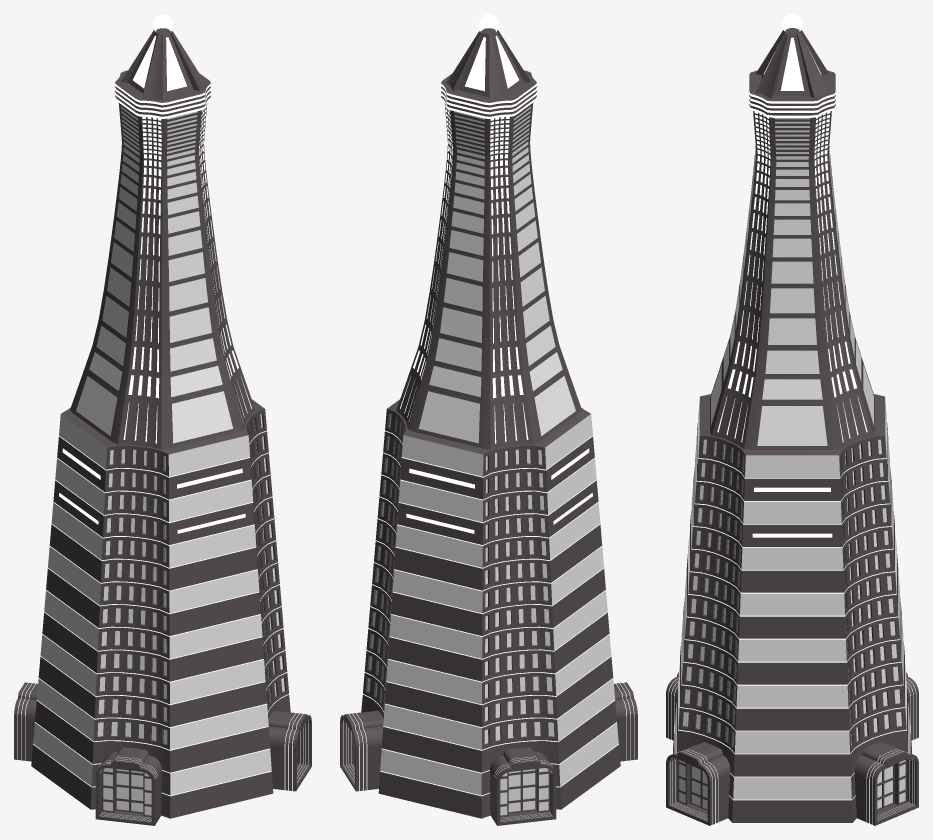
3 views of the same model, side by side, from view 1: azimuth 30°, elevation 25°; view 2: azimuth 150°, elevation 25°; view 3: azimuth 270°, elevation 25° (orthographic).
Parts seen in each view (by area): view 1: S1 WALLS MAT, S1 windows mat, S1 NEON MAT; view 2: S1 WALLS MAT, S1 windows mat, S1 NEON MAT; view 3: S1 WALLS MAT, S1 windows mat, S1 NEON MAT.
Boxes of the visible parts, x1,y1,x2,y2 form: S1 WALLS MAT: (14,28,311,825); S1 windows mat: (33,106,284,795); S1 NEON MAT: (17,14,308,821); S1 WALLS MAT: (340,28,637,825); S1 windows mat: (367,106,618,795); S1 NEON MAT: (343,14,634,821); S1 WALLS MAT: (666,28,918,825); S1 windows mat: (675,118,909,799); S1 NEON MAT: (668,14,916,824).
Bounding box in the file's own units: 8.85 × 29.27 × 8.85.
Materials: 3 (3 with a texture image).
